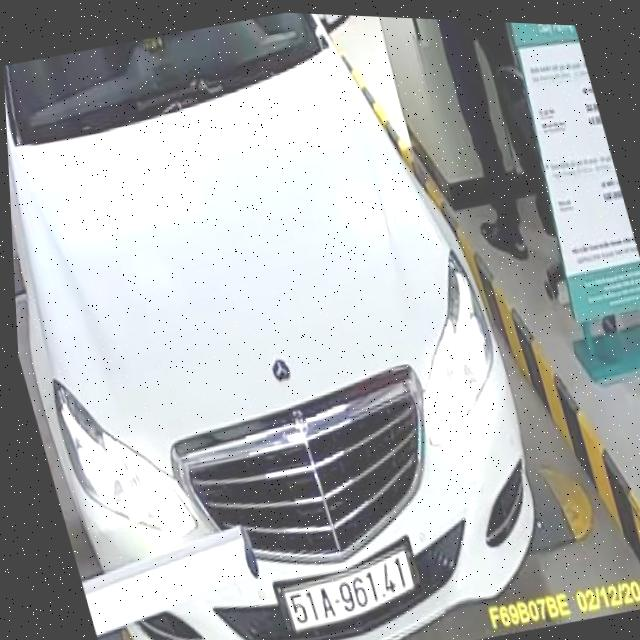car: (0, 0, 578, 640)
plate: (272, 539, 426, 640)
